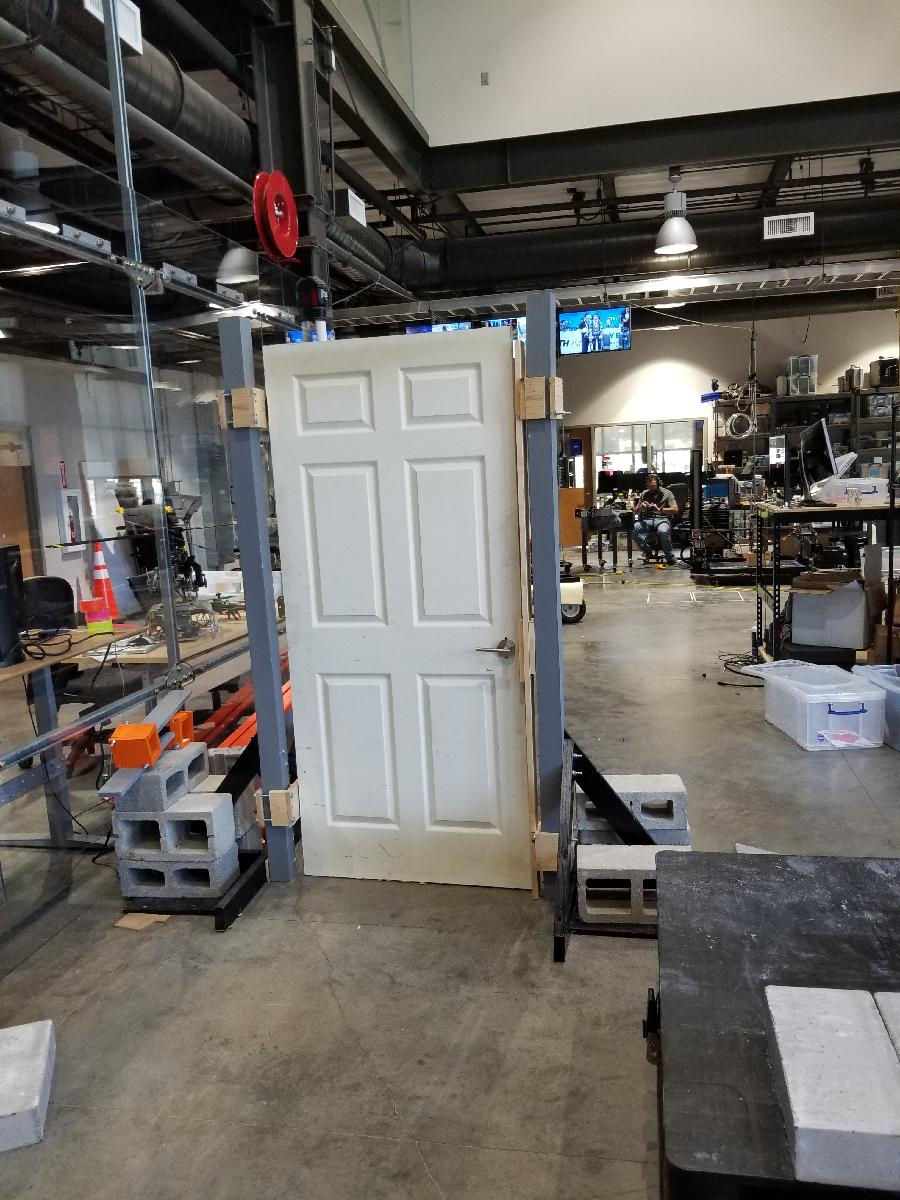door: (258, 324, 538, 897)
doorHandle: (474, 632, 516, 672)
